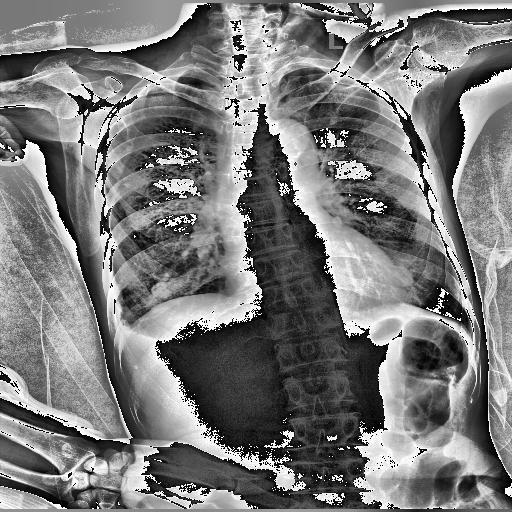0- Aortic enlargement: (221, 120, 321, 182), (258, 119, 321, 192), (265, 117, 316, 170)
10- Pleural effusion: (109, 302, 152, 348), (108, 304, 134, 344), (113, 309, 137, 337)
11- Pleural thickening: (109, 302, 152, 348), (108, 304, 134, 344), (113, 309, 137, 337)
8- Nodule-Mass: (395, 268, 416, 288), (150, 283, 172, 298)
